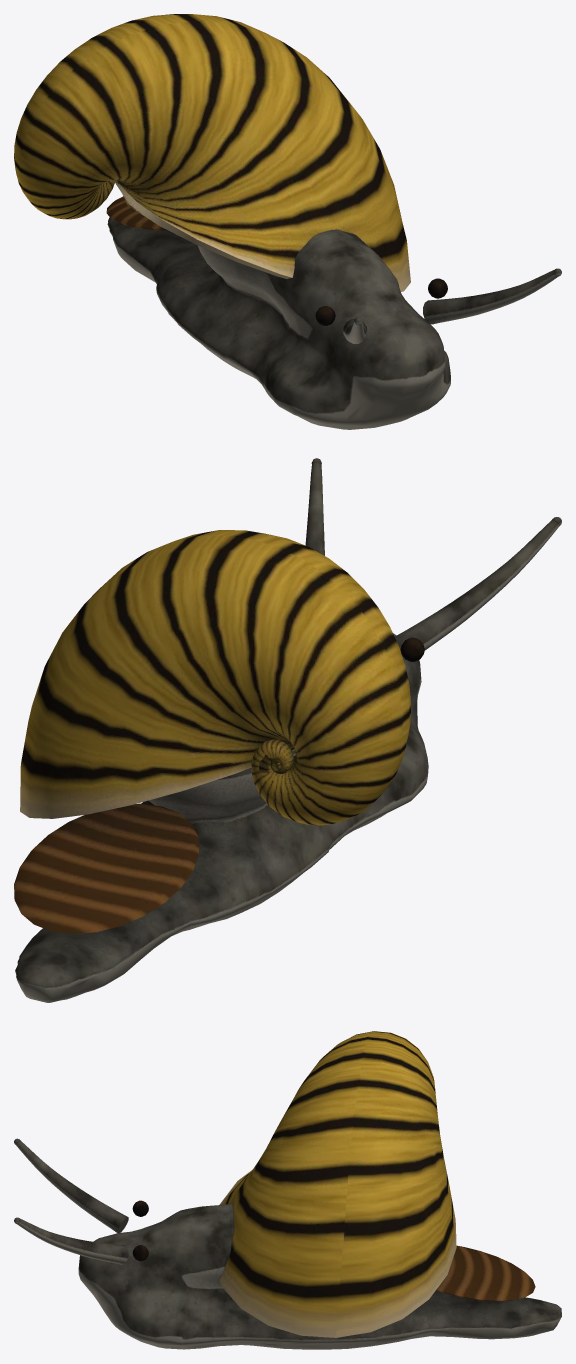
File: snail-nerite.glb
3 renders of one model, top to bottom at view 1: azimuth 30°, elevation 25°; view 2: azimuth 150°, elevation 25°; view 3: azimuth 270°, elevation 25°, orthographic. The views are drawn at different scales.
Parts seen in each view (by area): view 1: Shell, Body, TentL; view 2: Shell, Body, TentR, TentL; view 3: Shell, Body, TentR, TentL.
Boxes of the visible parts, left/top/right/bottom form: Shell: left=14, top=14, right=410, bottom=291; Body: left=106, top=196, right=450, bottom=429; TentL: left=423, top=268, right=561, bottom=324; Shell: left=20, top=530, right=411, bottom=825; Body: left=14, top=633, right=428, bottom=1002; TentR: left=395, top=517, right=561, bottom=652; TentL: left=305, top=458, right=324, bottom=555; Shell: left=219, top=1031, right=456, bottom=1337; Body: left=78, top=1200, right=561, bottom=1349; TentR: left=14, top=1138, right=128, bottom=1233; TentL: left=14, top=1217, right=128, bottom=1264.
Size of the model in its own units: 0.0746 by 0.0689 by 0.1315.
1 material, 1 textured.
